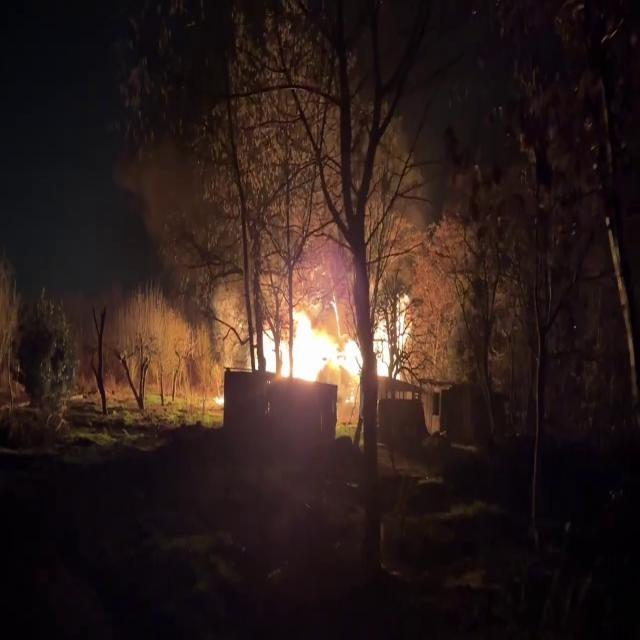Fire: (258, 297, 364, 387), (374, 288, 414, 378)
Smoke: (150, 162, 278, 354)
